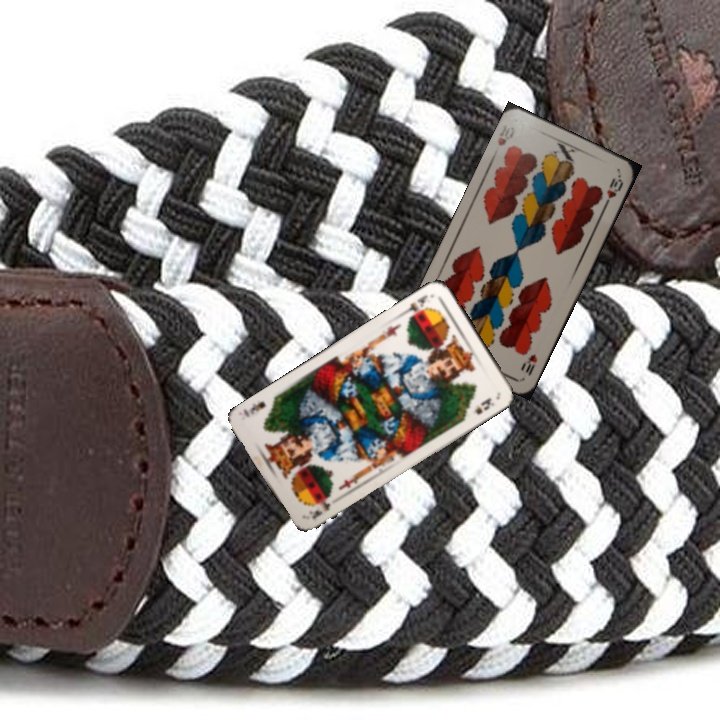H10: (493, 121, 518, 148), (517, 350, 540, 378)
SK: (400, 291, 436, 321), (305, 492, 335, 522)
